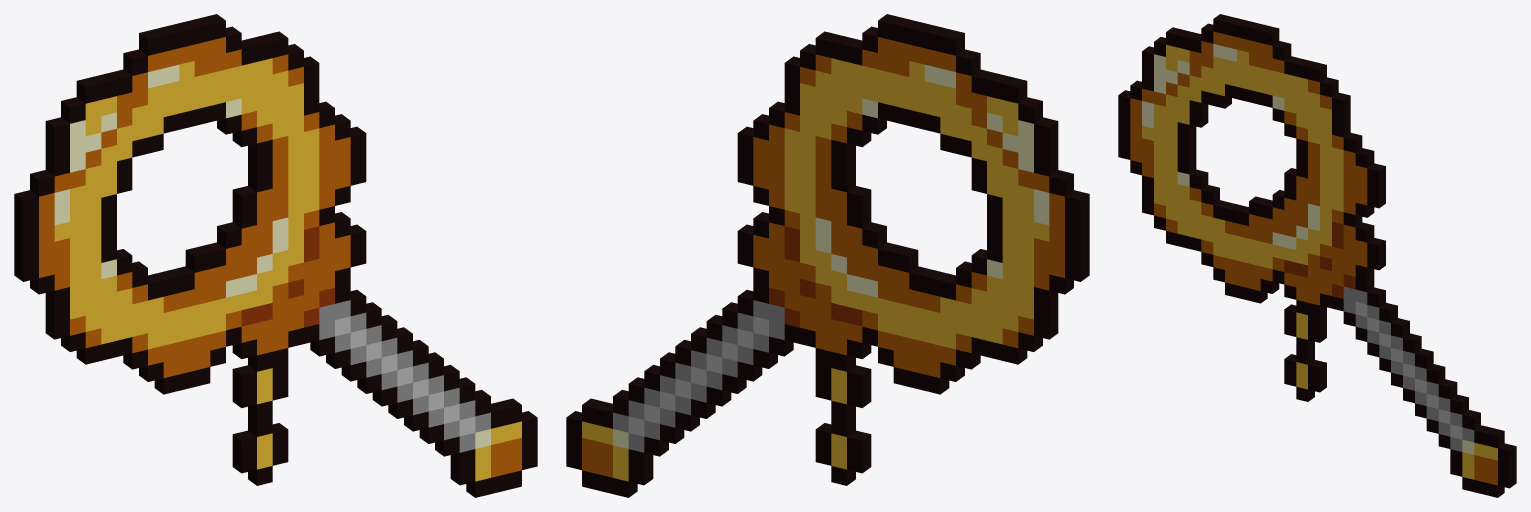
File: W_Mace014.fbx
3 views of the same model, side by side, from view 1: azimuth 30°, elevation 25°; view 2: azimuth 150°, elevation 25°; view 3: azimuth 330°, elevation 25° (orthographic). The views are drawn at different scales.
Parts seen in each view (by area): view 1: Default; view 2: Default; view 3: Default.
Part boxes in pixels (x1,y1,x2,y2): Default: [14, 14, 537, 497]; Default: [566, 14, 1089, 497]; Default: [1118, 14, 1516, 497].
Bounding box in the file's own units: 33 × 33 × 1.
1 material, 1 textured.
